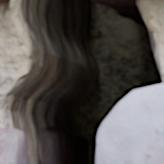broken_brick: (98, 82, 163, 163), (0, 126, 16, 163)
crack: (0, 0, 162, 163)
